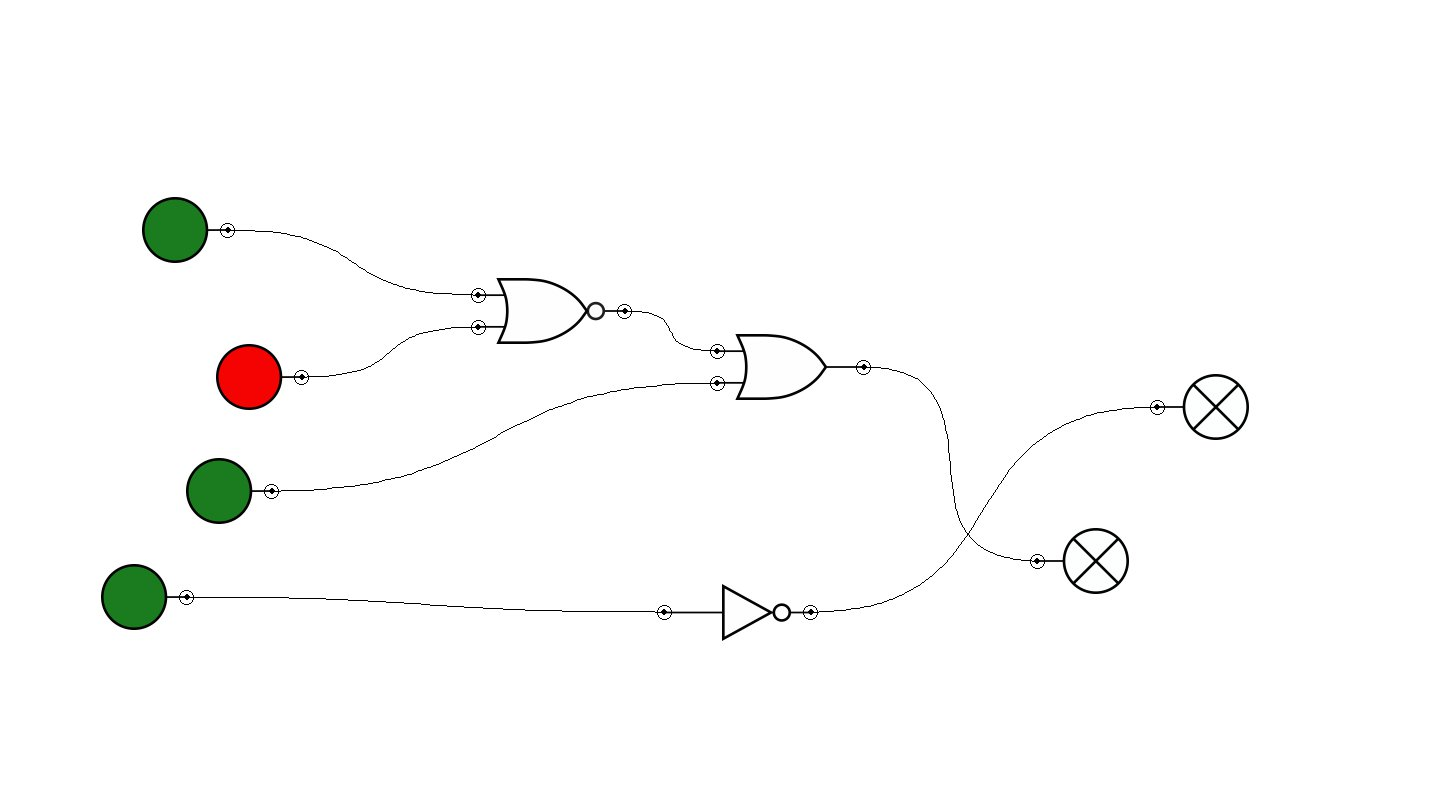bulb: (1150, 374, 1249, 440), (1030, 528, 1129, 594)
nor: (471, 278, 632, 344)
not: (657, 584, 818, 641)
or: (710, 334, 871, 400)
switch_False: (216, 344, 309, 410)
switch_True: (186, 458, 279, 524), (101, 564, 194, 630), (142, 197, 235, 263)
